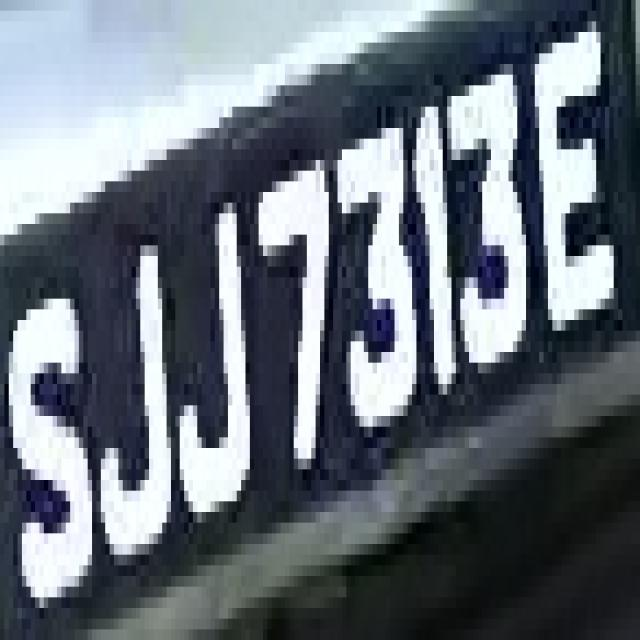1: (412, 75, 473, 437)
3: (329, 75, 416, 522), (447, 43, 539, 448)
7: (245, 128, 342, 491)
E: (535, 0, 627, 373)
J: (92, 192, 184, 565), (171, 170, 267, 522)
S: (5, 246, 106, 630)
